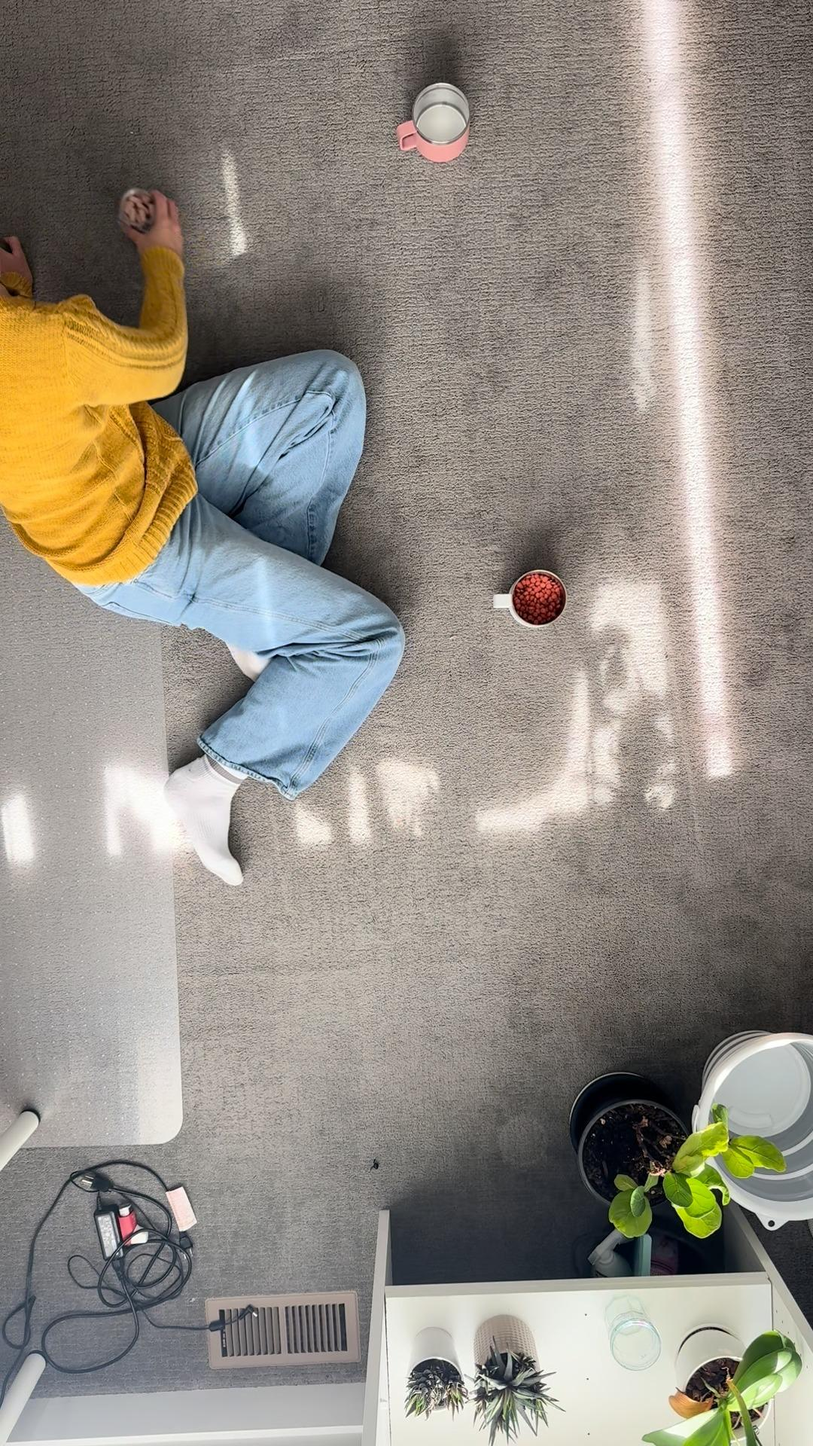IBC: (389, 73, 481, 165), (489, 556, 568, 639)
